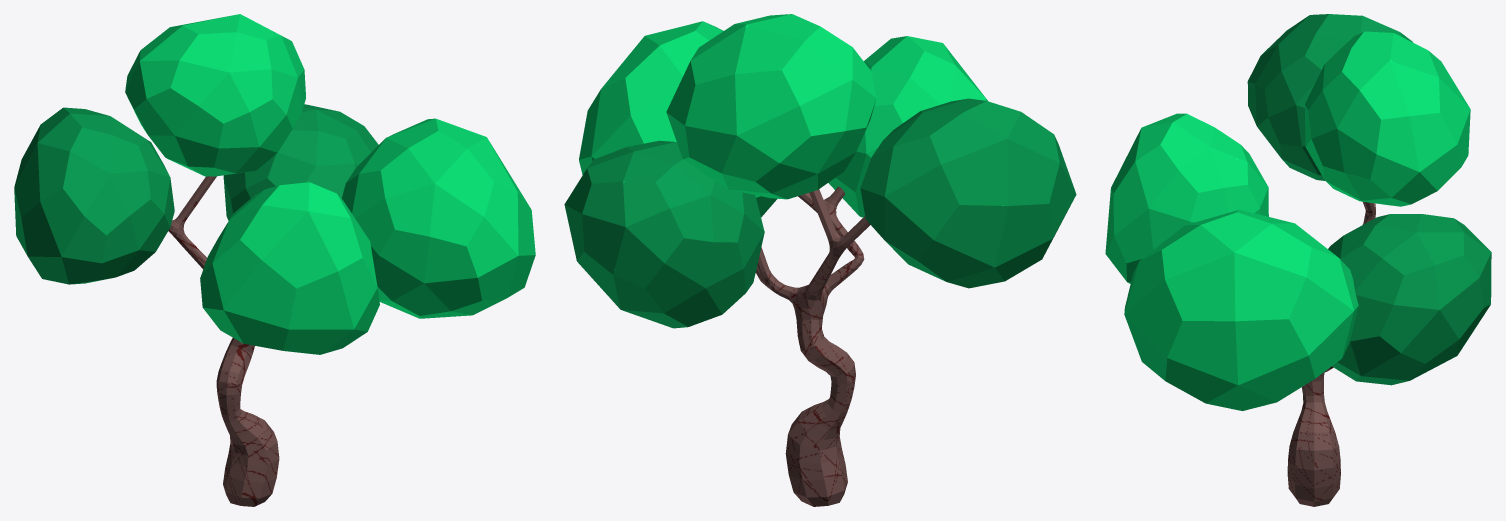
The model's file is Arbol2.fbx.
The picture shows the model from 3 angles, left to right: view 1: azimuth 30°, elevation 25°; view 2: azimuth 150°, elevation 25°; view 3: azimuth 270°, elevation 25°; orthographic projection. The views are drawn at different scales.
Visible parts, largest first — view 1: Arbol2; view 2: Arbol2; view 3: Arbol2.
Boxes of the visible parts, bbox=[...] form: Arbol2: bbox=[14, 14, 535, 506]; Arbol2: bbox=[564, 14, 1076, 506]; Arbol2: bbox=[1105, 14, 1491, 506].
Size of the model in its own units: 12.6 by 12.26 by 9.33.
Materials: 1 (1 with a texture image).
